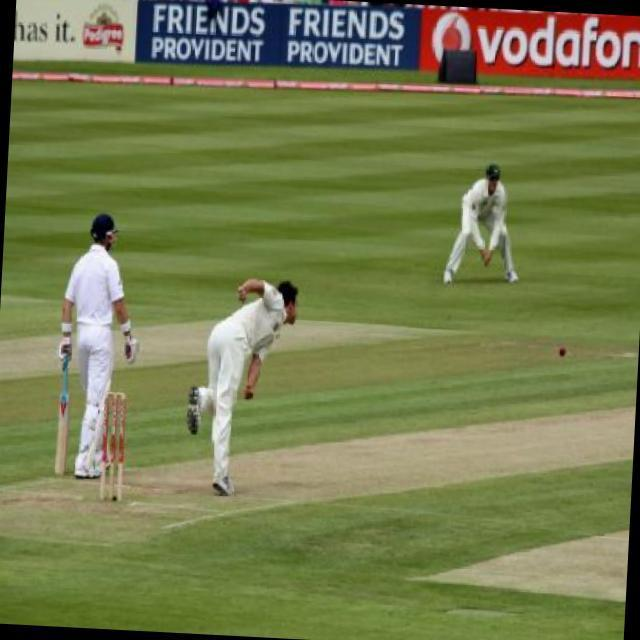-: (550, 327, 577, 376)
